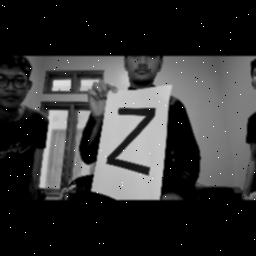z: (104, 104, 162, 180)
